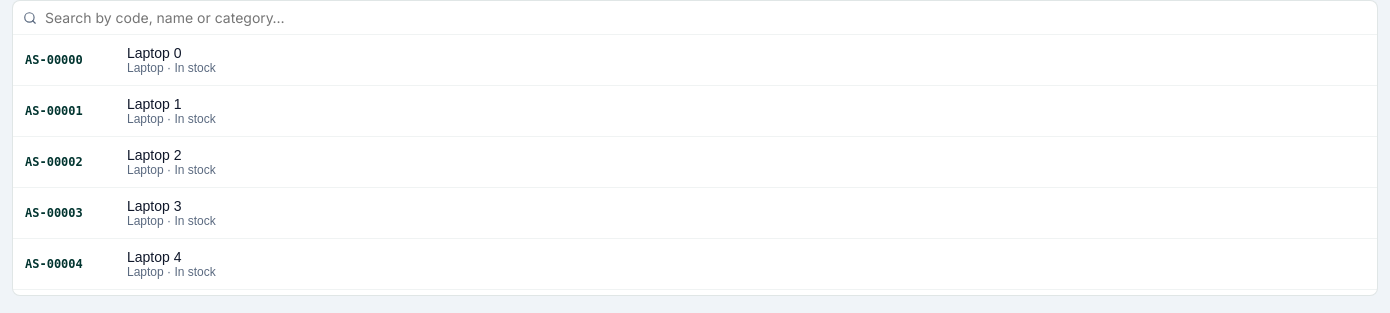
it: EligibleAssetSelect › explains a search that matches nothing
This screenshot has width=1390, height=313.
Type "zzzz" into the field named "search eligible assets" at coordinates (706, 18), box left=45, top=9, right=1367, bottom=26
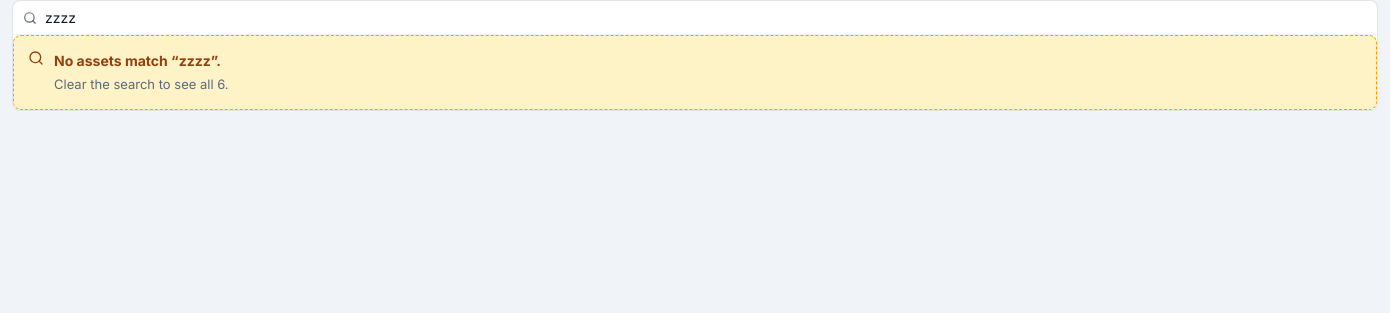
Now the text "No assets match “zzzz”." is shown, box left=54, top=52, right=221, bottom=69
Now the text "Clear the search to see all 6." is shown, box left=54, top=74, right=229, bottom=95
